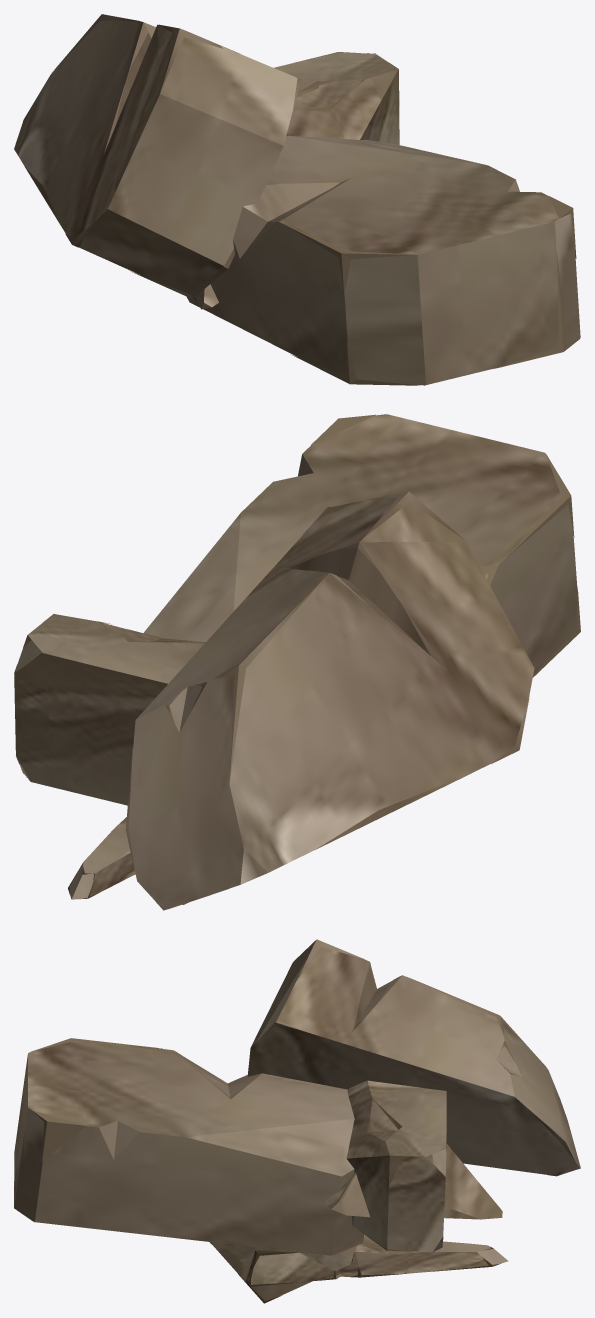
Rendered from FX_MESH_Crack_02.fbx.
The picture shows the model from 3 angles, top to bottom: view 1: azimuth 30°, elevation 25°; view 2: azimuth 150°, elevation 25°; view 3: azimuth 270°, elevation 25°; orthographic projection. The views are drawn at different scales.
Parts seen in each view (by area): view 1: brick_01, brick_02, brick_03; view 2: brick_02, brick_01, brick_03, brick_05; view 3: brick_01, brick_02, brick_03, brick_05, brick_04, brick_06.
Boxes of the visible parts, <box> form: brick_01: <box>187,135,580,385</box>; brick_02: <box>14,14,301,298</box>; brick_03: <box>274,52,399,144</box>; brick_02: <box>125,491,534,910</box>; brick_01: <box>143,414,580,677</box>; brick_03: <box>14,614,205,805</box>; brick_05: <box>68,817,135,899</box>; brick_01: <box>14,1038,363,1255</box>; brick_02: <box>247,939,580,1176</box>; brick_03: <box>346,1080,446,1251</box>; brick_05: <box>245,1234,508,1286</box>; brick_04: <box>323,1144,502,1219</box>; brick_06: <box>209,1242,356,1303</box>.
Size of the model in its own units: 0.339 by 0.3081 by 0.5604.
